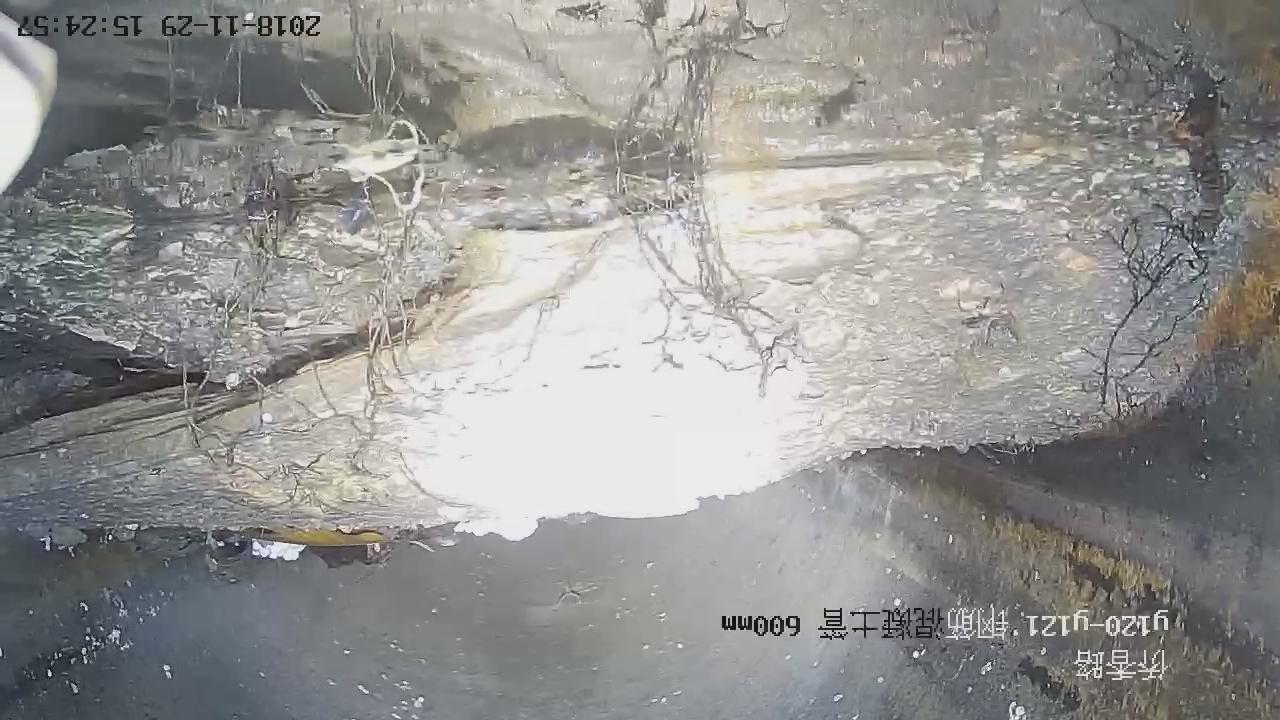ZAW: (1, 1, 1280, 534)
